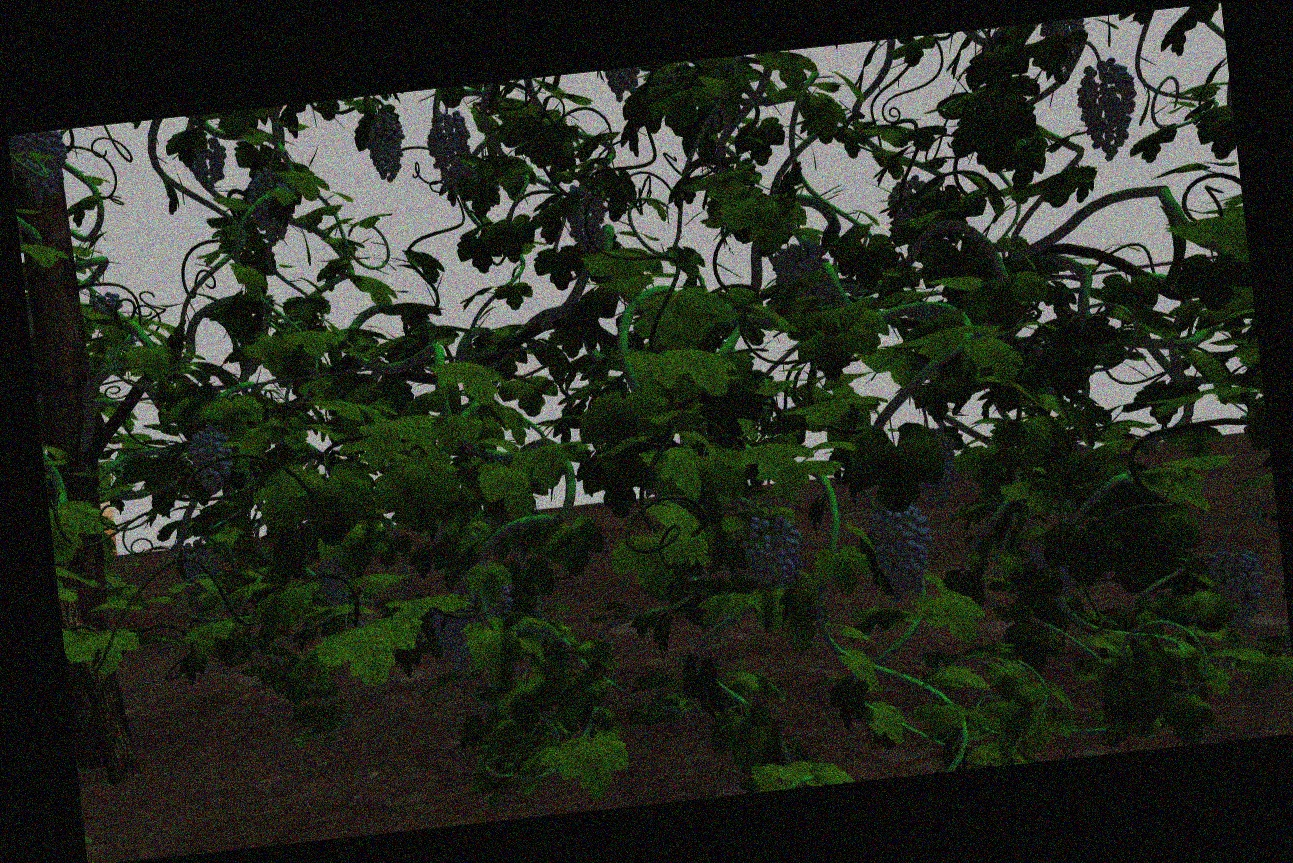grape: (1076, 58, 1139, 159), (869, 503, 933, 602), (1211, 545, 1266, 639), (744, 514, 804, 592), (426, 110, 473, 195), (12, 133, 67, 199), (248, 167, 294, 245), (186, 423, 233, 497), (432, 599, 478, 674), (773, 242, 827, 304), (565, 180, 605, 253), (366, 110, 406, 182), (317, 553, 353, 609), (190, 136, 227, 184)
